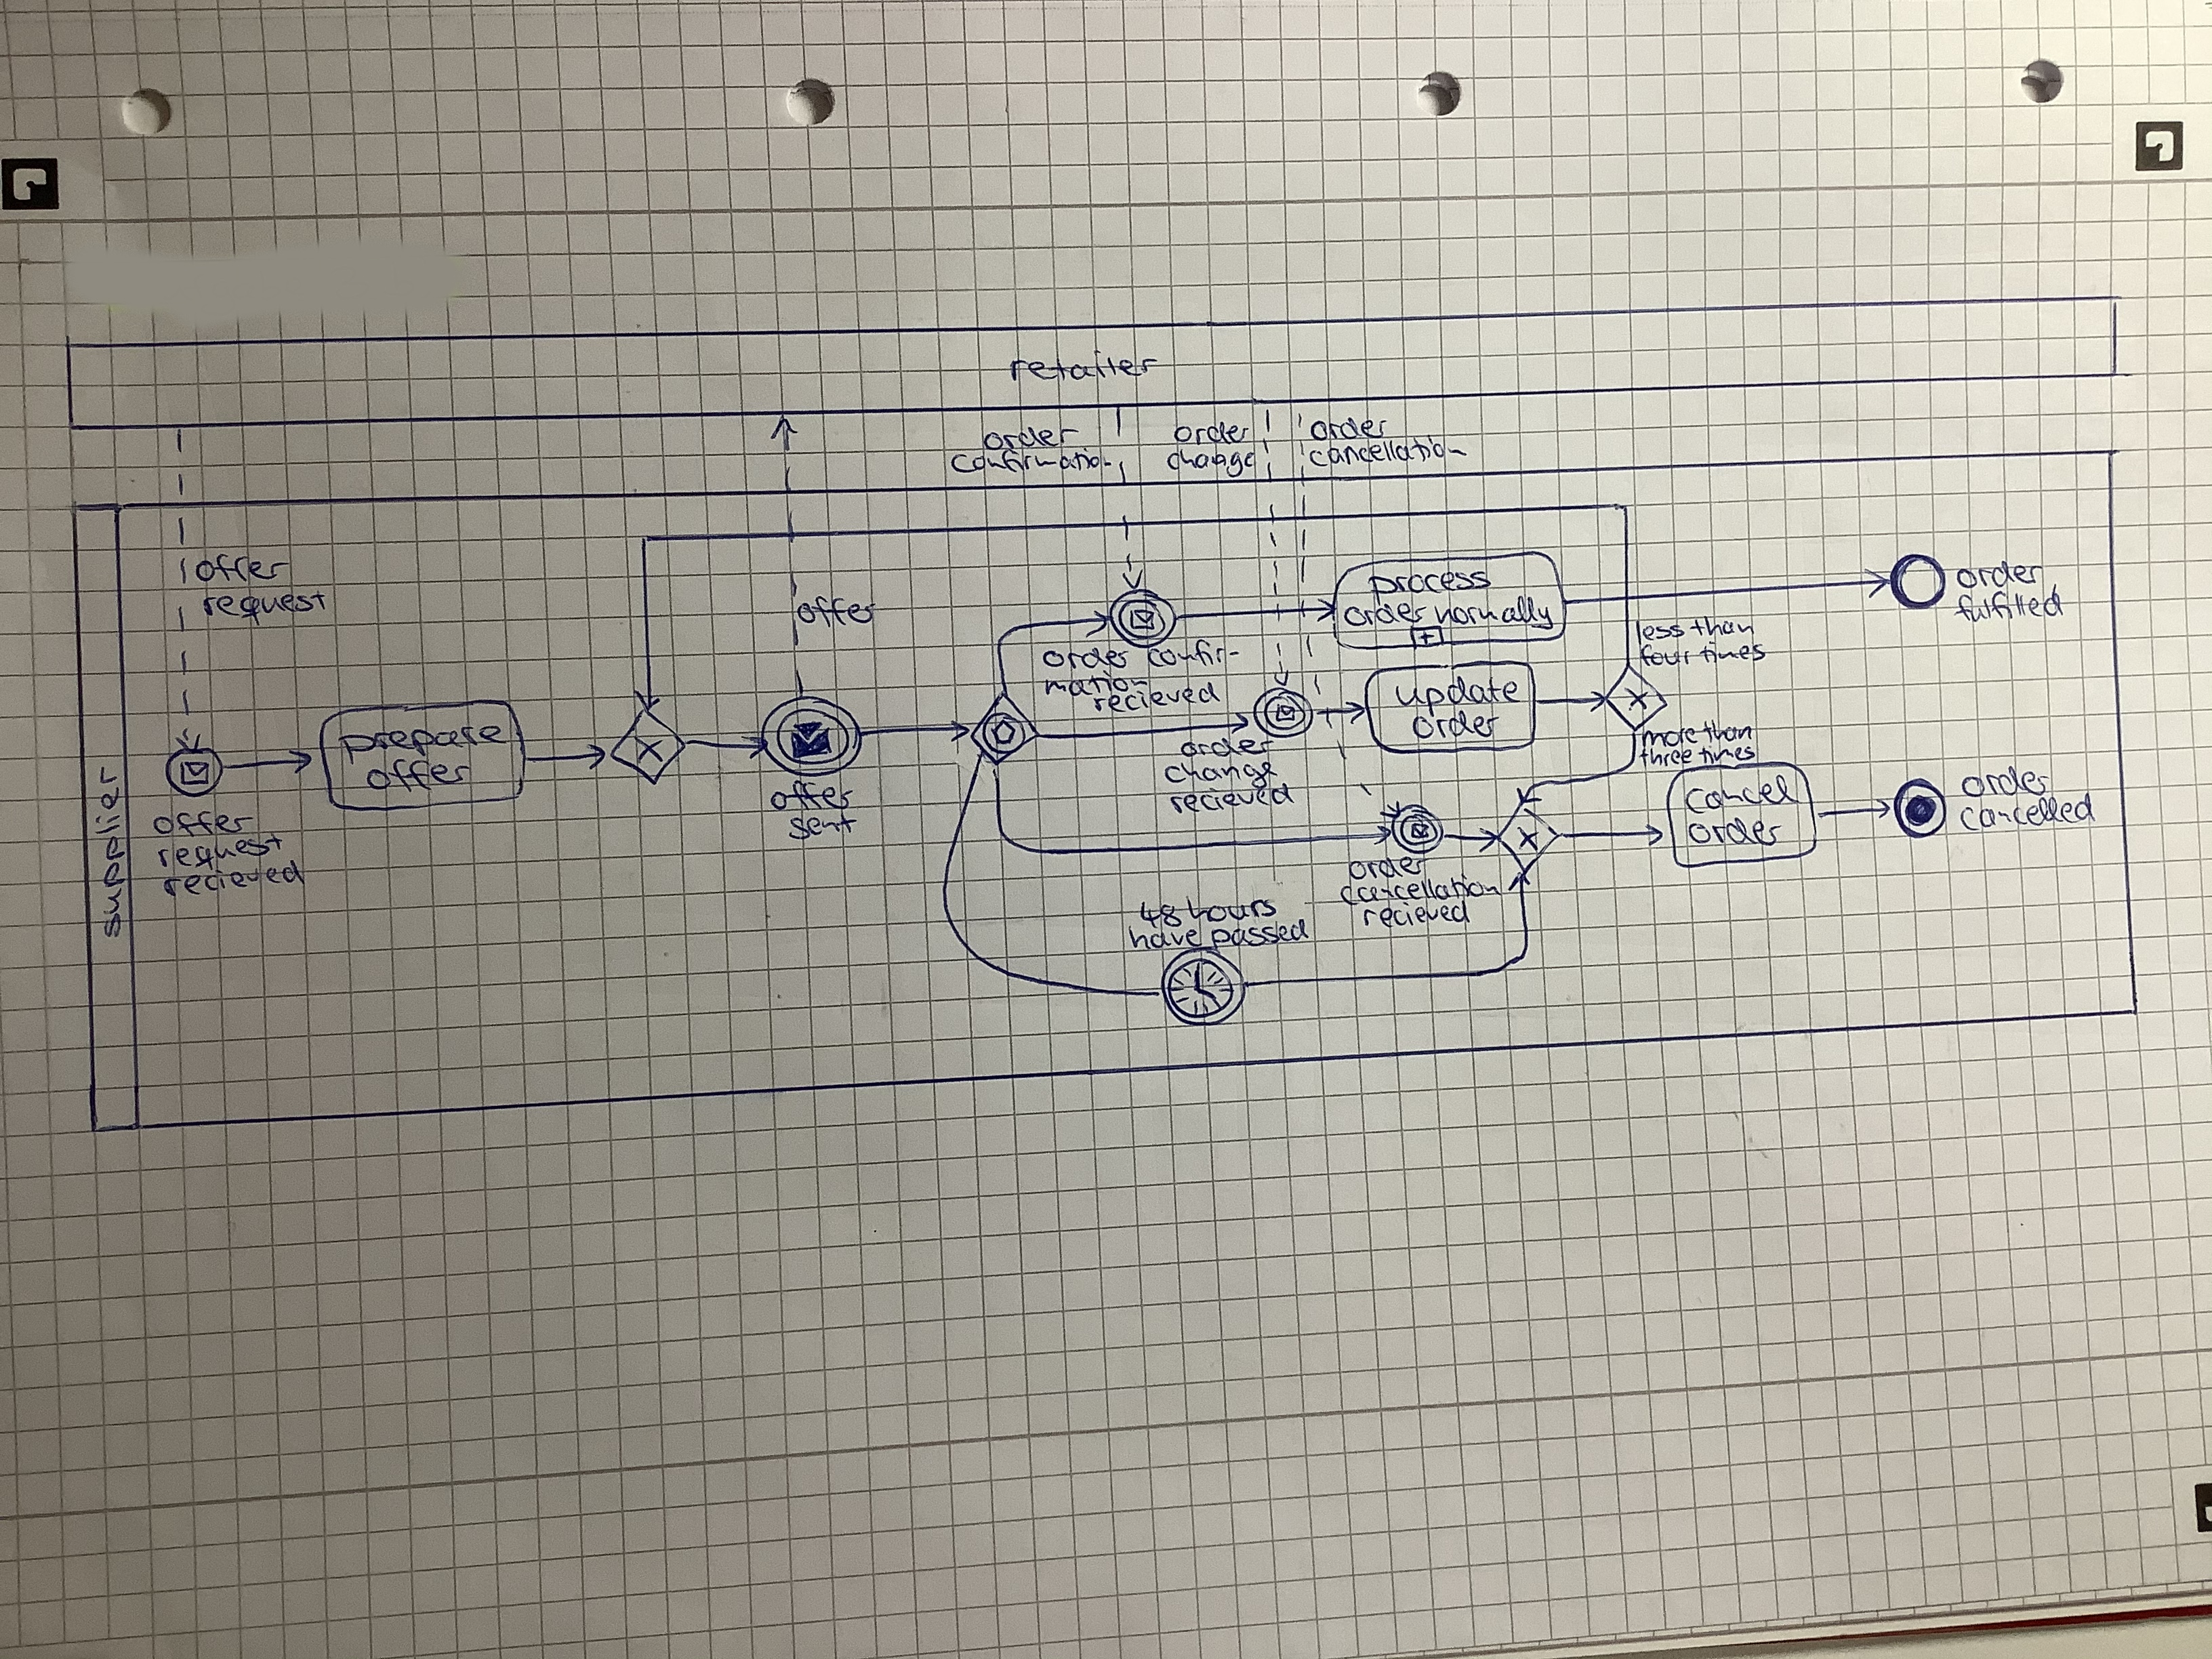48: (1137, 896, 1179, 927)
cancel: (1684, 775, 1797, 817)
cancellation: (1306, 436, 1468, 472), (1338, 875, 1494, 906)
cancelled: (1959, 793, 2095, 828)
change: (1165, 755, 1277, 789), (1163, 448, 1271, 479)
confir-: (1150, 648, 1240, 669)
confirmation: (953, 450, 1115, 477)
four: (1635, 643, 1693, 673)
fulfilled: (1951, 587, 2069, 627)
have: (1130, 925, 1207, 948)
hours: (1183, 890, 1280, 924)
less: (1635, 617, 1688, 647)
mation: (1040, 673, 1148, 695)
more: (1642, 725, 1695, 744)
normally: (1439, 596, 1555, 633)
offer: (368, 751, 481, 796), (157, 809, 260, 842), (195, 551, 287, 586), (792, 594, 871, 633), (772, 782, 853, 814)
order: (1679, 814, 1796, 852), (1952, 552, 2047, 594), (986, 423, 1089, 457), (1954, 765, 2054, 796), (1345, 854, 1433, 885), (1036, 645, 1130, 674), (1414, 711, 1498, 744), (1177, 732, 1277, 760), (1345, 598, 1432, 629), (1176, 416, 1261, 448), (1306, 408, 1390, 436)
passed: (1207, 917, 1315, 951)
prepare: (333, 720, 509, 753)
process: (1369, 566, 1491, 593)
recieved: (162, 859, 303, 903), (1089, 680, 1219, 716), (1167, 782, 1296, 819), (1364, 897, 1472, 931)
request: (152, 831, 279, 873), (197, 586, 327, 626)
retailer: (1007, 350, 1158, 387)
sent: (786, 809, 853, 843)
supplier: (89, 756, 129, 936)
than: (1689, 617, 1754, 643), (1698, 720, 1756, 748)
three: (1637, 748, 1689, 769)
times: (1693, 641, 1763, 667), (1695, 744, 1759, 769)
update: (1385, 666, 1521, 708)
